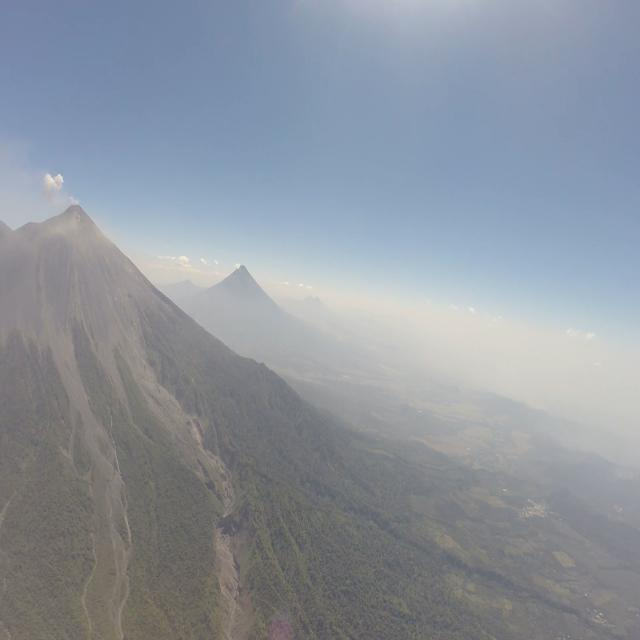Plume: (41, 172, 64, 202)
Summit: (54, 202, 94, 234)
